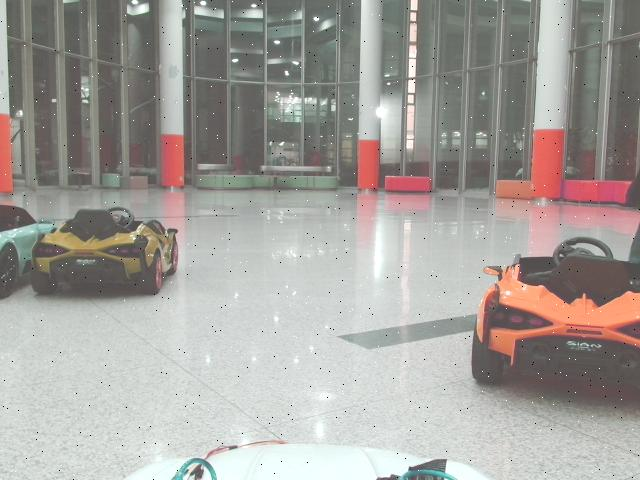car: (472, 237, 640, 385), (32, 207, 178, 295), (1, 204, 59, 302)
